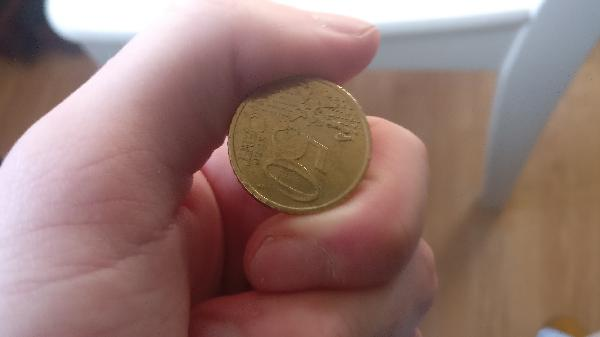Fifty Cent: (228, 66, 374, 216)
